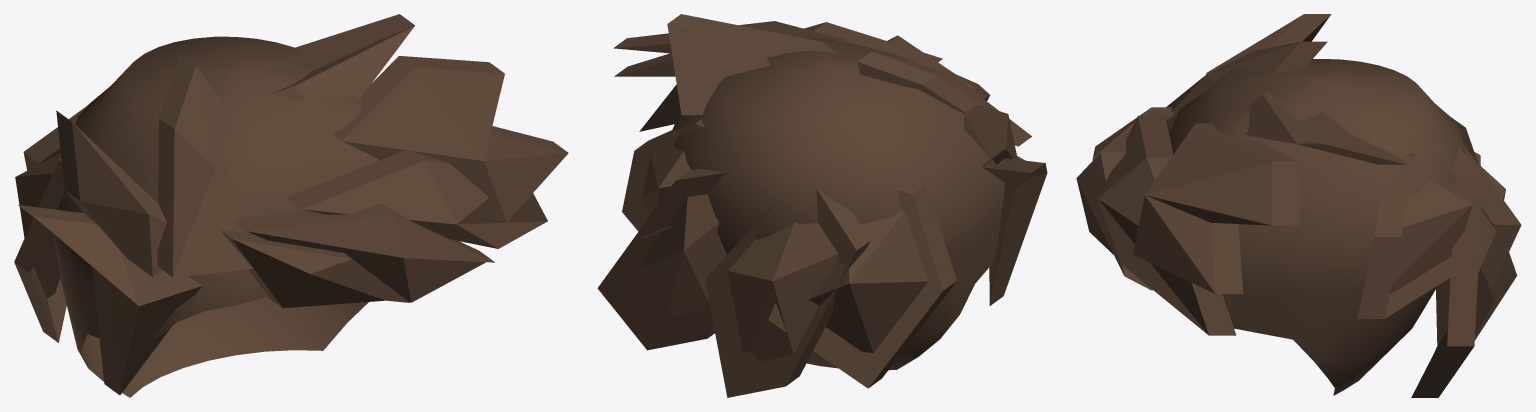
File: hair-curls.glb
The picture shows the model from 3 angles, left to right: view 1: azimuth 30°, elevation 25°; view 2: azimuth 150°, elevation 25°; view 3: azimuth 270°, elevation 25°; orthographic projection. The views are drawn at different scales.
Visible parts, largest first — view 1: hair-curls_ref2_hair-curls__head_mesh; view 2: hair-curls_ref2_hair-curls__head_mesh; view 3: hair-curls_ref2_hair-curls__head_mesh.
Part boxes in pixels (bbox=[...]): hair-curls_ref2_hair-curls__head_mesh: bbox=[14, 14, 568, 397]; hair-curls_ref2_hair-curls__head_mesh: bbox=[597, 14, 1047, 397]; hair-curls_ref2_hair-curls__head_mesh: bbox=[1076, 14, 1521, 397].
Size of the model in its own units: 0.594 by 0.3916 by 0.52.
